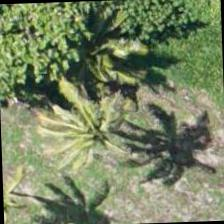Kelapa_Sawit: (48, 91, 140, 184)
